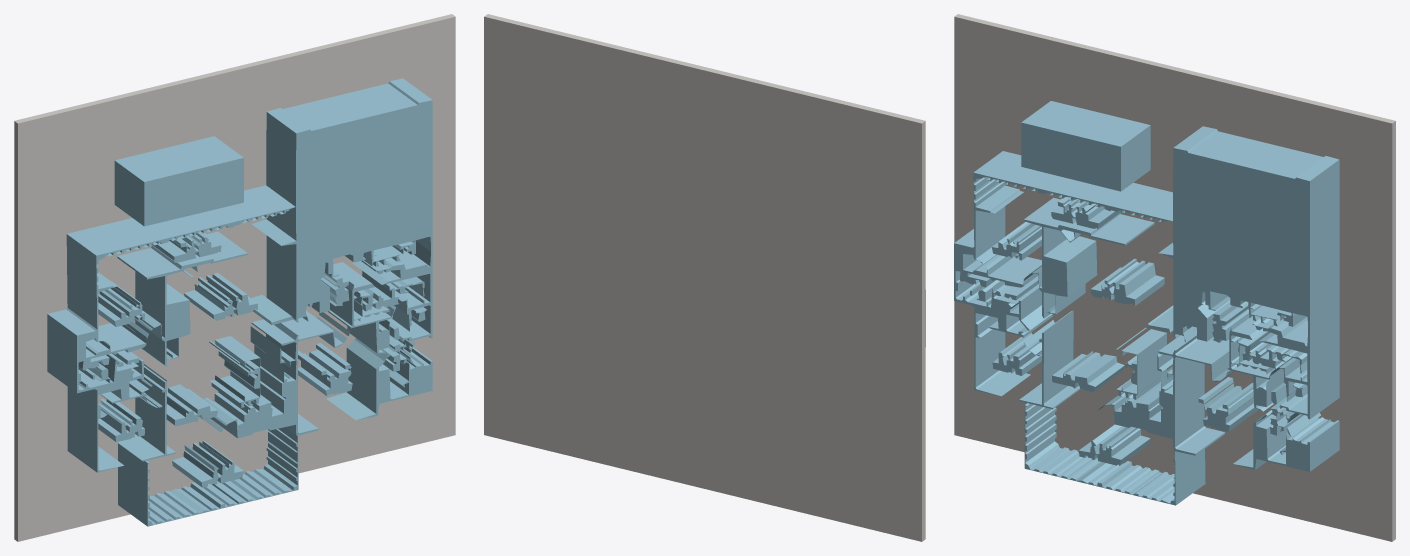
3 views of the same model, side by side, from view 1: azimuth 30°, elevation 25°; view 2: azimuth 150°, elevation 25°; view 3: azimuth 330°, elevation 25° (orthographic).
Visible parts, largest first — view 1: world; view 2: world; view 3: world.
Part boxes in pixels (x1,y1,x2,y2): world: [14, 14, 455, 541]; world: [484, 14, 925, 541]; world: [954, 14, 1395, 541].
Bounding box in the file's own units: 10.23 × 9.34 × 1.35.
